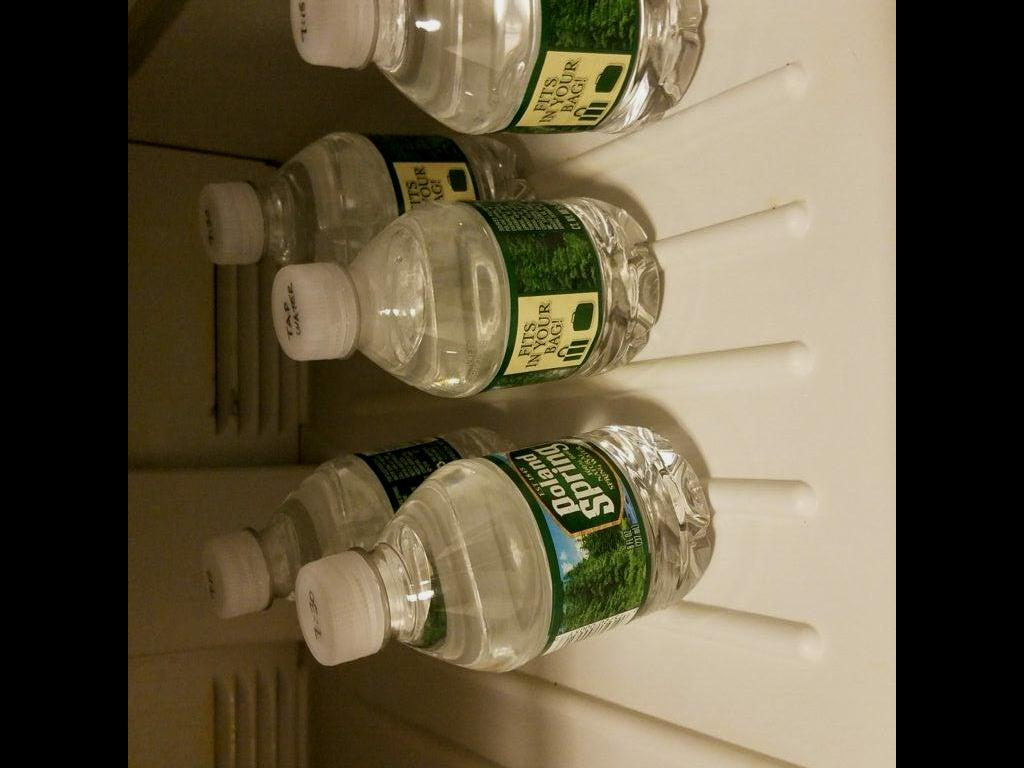bottle: (280, 415, 726, 692), (254, 180, 676, 410), (189, 413, 538, 646), (182, 114, 541, 319), (277, 0, 717, 144)
